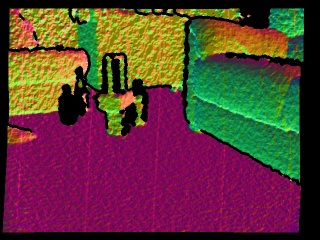station: (96, 51, 135, 111)
